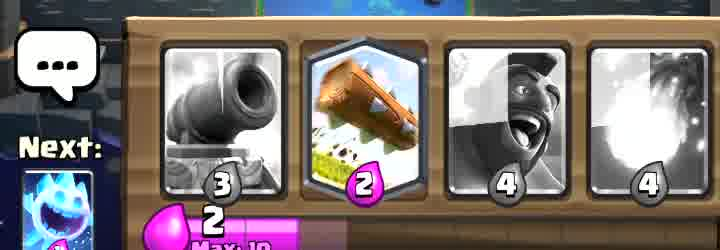ice-spirit: (25, 170, 93, 250)
log: (309, 43, 423, 195)
